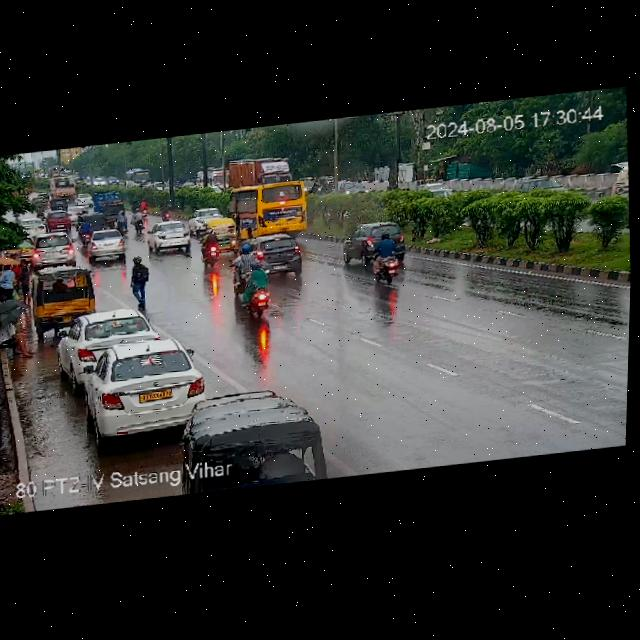bus: (224, 177, 307, 238)
car: (84, 332, 200, 438), (54, 301, 151, 380), (31, 266, 94, 338), (345, 218, 412, 263), (249, 230, 306, 279), (32, 230, 77, 272), (84, 227, 130, 264), (147, 222, 189, 256), (513, 171, 566, 197), (206, 217, 242, 255), (413, 180, 453, 199), (101, 200, 127, 223), (193, 209, 220, 231), (22, 215, 46, 237), (81, 213, 107, 232), (75, 192, 92, 209), (51, 196, 68, 211)
motorcycle: (369, 228, 402, 283), (245, 260, 273, 313), (228, 241, 256, 288), (199, 229, 221, 268), (132, 208, 145, 233), (159, 201, 171, 222), (139, 197, 147, 217), (132, 198, 140, 215)
person: (0, 309, 36, 363), (127, 254, 154, 310), (0, 258, 17, 302), (17, 254, 32, 300), (8, 261, 25, 299)
truck: (229, 153, 289, 191), (48, 174, 77, 198), (124, 167, 154, 188)
